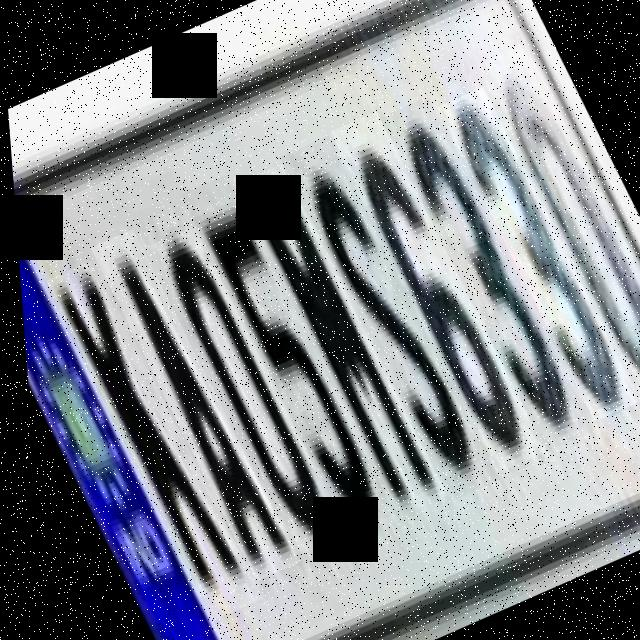0: (143, 225, 341, 554), (473, 43, 640, 407)
3: (377, 96, 589, 452), (435, 86, 635, 421)
5: (177, 175, 388, 532)
6: (327, 110, 540, 472)
A: (85, 228, 291, 580)
K: (40, 259, 254, 619)
M: (230, 164, 440, 516)
S: (276, 134, 494, 500)
